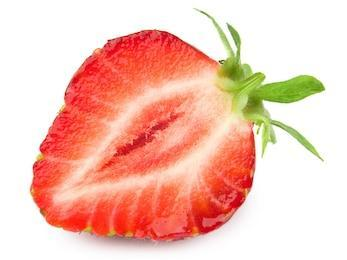Fresa: (28, 27, 260, 244)
